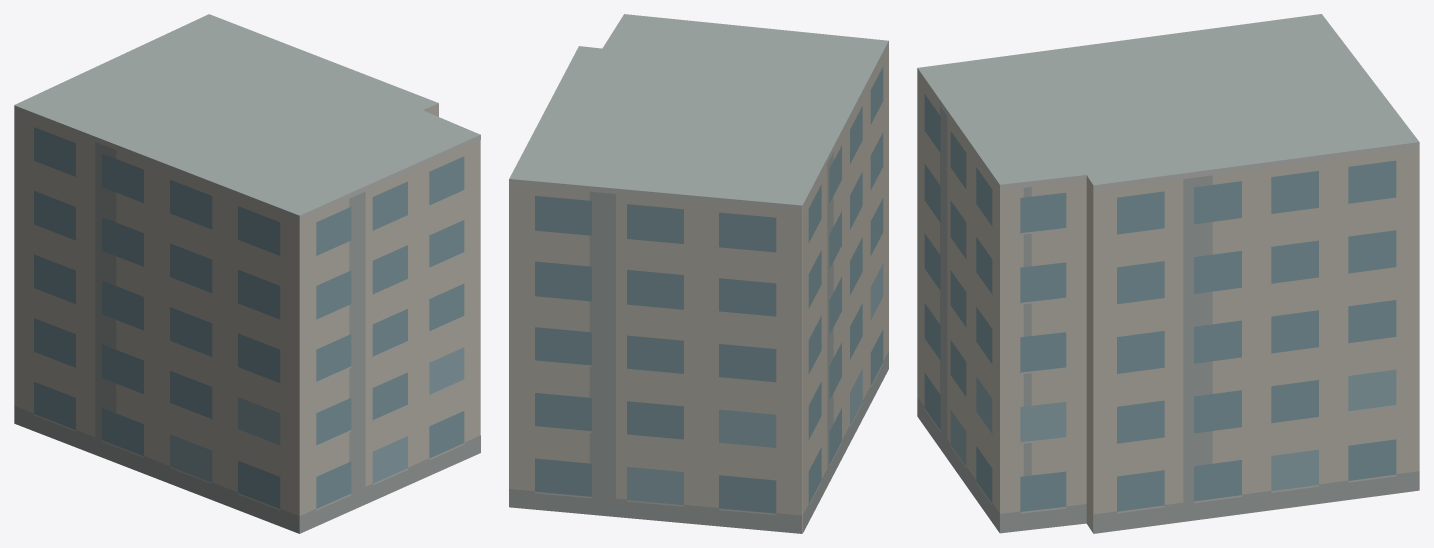
File: survey-upis-32620476.glb
The picture shows the model from 3 angles, left to right: view 1: azimuth 30°, elevation 25°; view 2: azimuth 150°, elevation 25°; view 3: azimuth 270°, elevation 25°; orthographic projection. The views are drawn at different scales.
Visible parts, largest first — view 1: survey-upis-32620476.tmp; view 2: survey-upis-32620476.tmp; view 3: survey-upis-32620476.tmp.
Part boxes in pixels (x1=…): survey-upis-32620476.tmp: x1=14, y1=14, x2=480, y2=533; survey-upis-32620476.tmp: x1=509, y1=14, x2=888, y2=533; survey-upis-32620476.tmp: x1=917, y1=14, x2=1419, y2=533.
Size of the model in its own units: 15.51 by 14.7 by 19.2.
